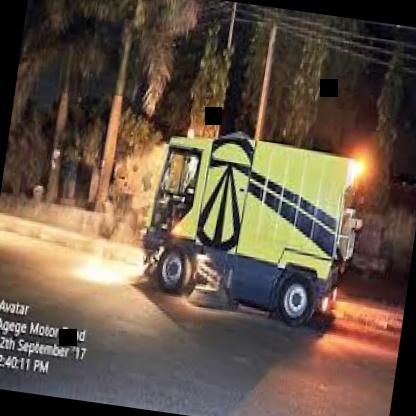car: (118, 108, 381, 359)
